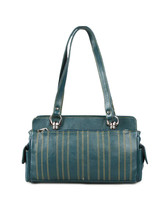bag: (11, 24, 154, 189)
